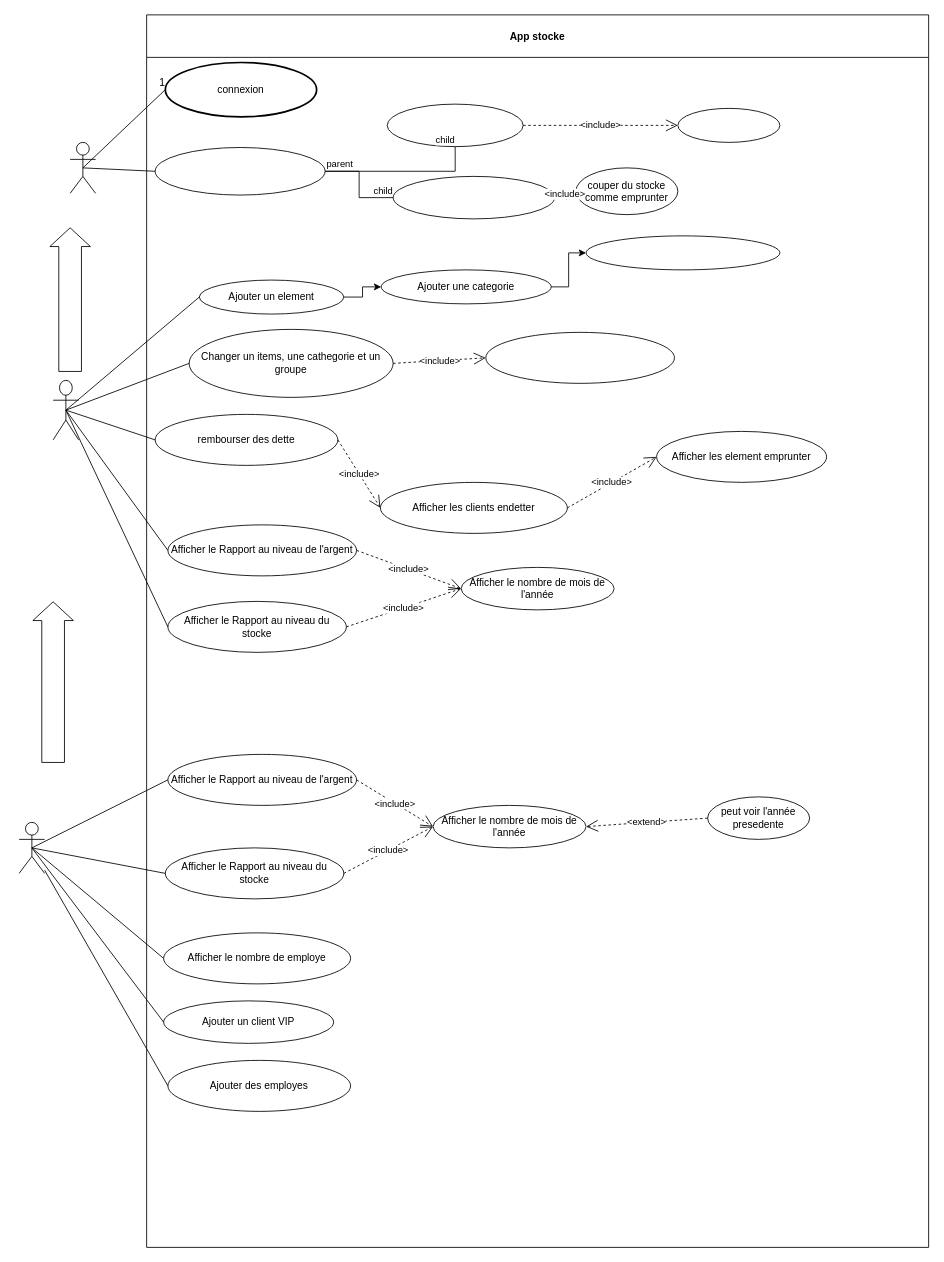
Image size: 944x1262. Some labels were removed from this diagram. The shapes that lost their labels are listed below. From the top down, each one's box as (x1, y1, x2, y2) in pixels, then its label:
(386, 103, 523, 147): vendre par cash
(677, 108, 780, 142): couper du stocke
(69, 142, 96, 193): vendeur
(154, 147, 325, 195): vendre element
(392, 176, 555, 219): vendre par emprunt
(585, 235, 780, 270): Ajoute un Groupe
(485, 332, 674, 383): Affiche une liste de l'element en question
(52, 380, 79, 440): comptable
(18, 822, 45, 873): director
